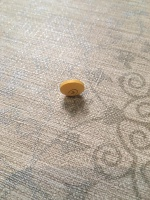Nurofen: (56, 77, 85, 99)
